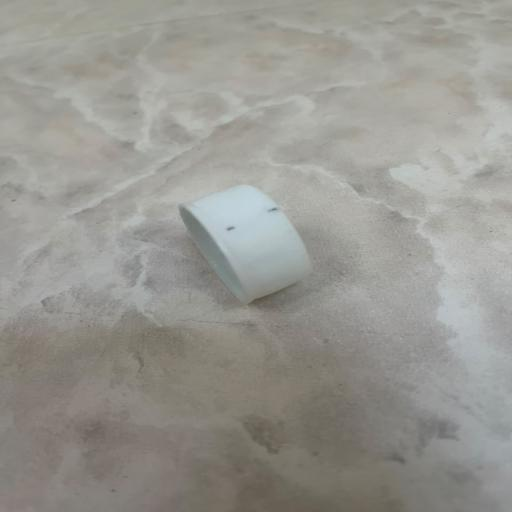HDPE: (112, 84, 422, 421)
